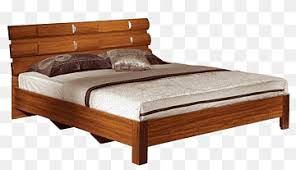bed-matress: (14, 51, 288, 124)
